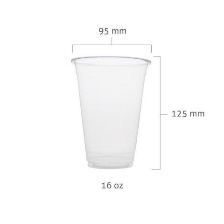glass: (63, 46, 164, 175)
